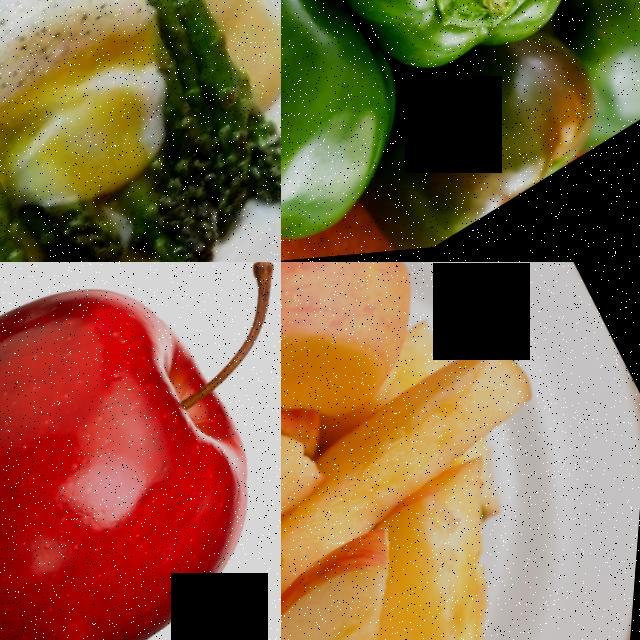apple: (0, 262, 281, 640), (306, 330, 558, 537), (361, 451, 617, 640), (281, 262, 467, 501), (281, 524, 499, 640), (281, 352, 357, 542)
asparagus: (65, 0, 281, 237), (135, 144, 273, 262)
bell pepper: (281, 0, 436, 262), (320, 0, 624, 92)
